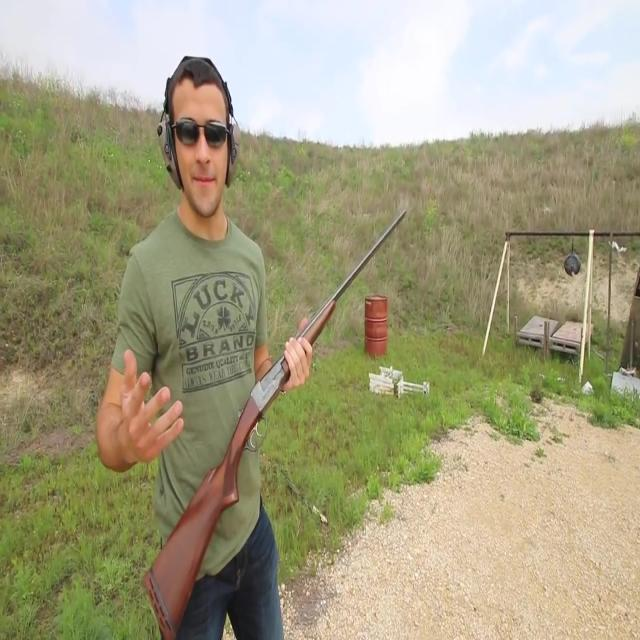Weapon: (138, 199, 424, 640)
